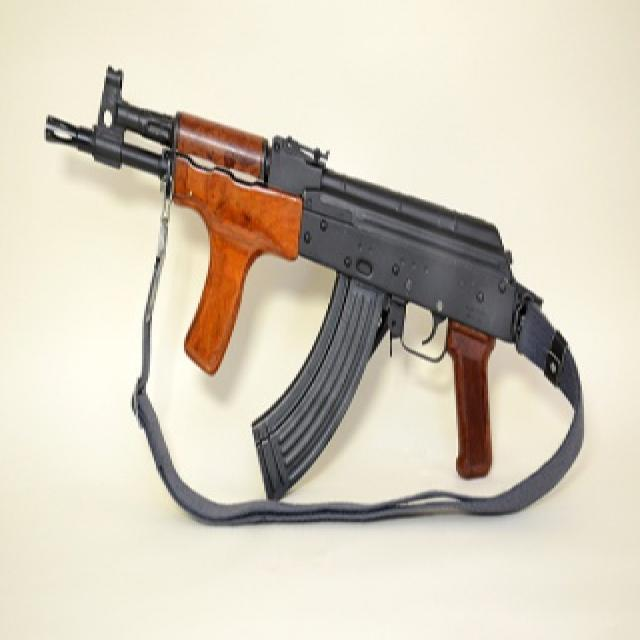weapon: (26, 58, 574, 502)
